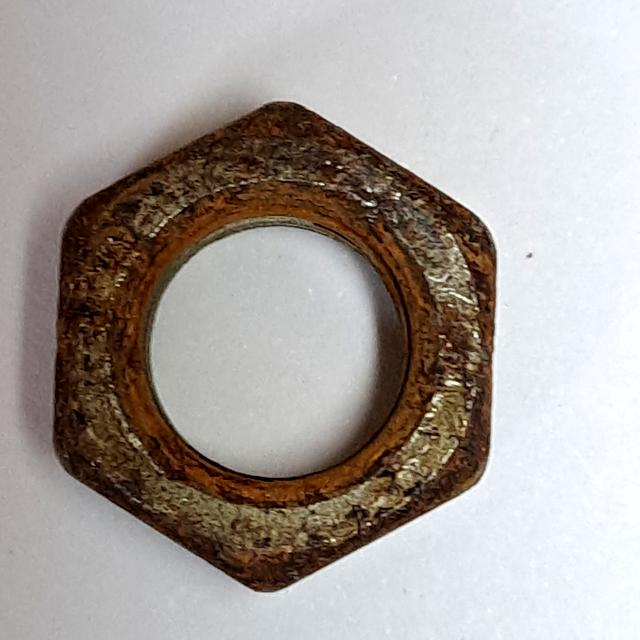Rust: (34, 83, 514, 604)
